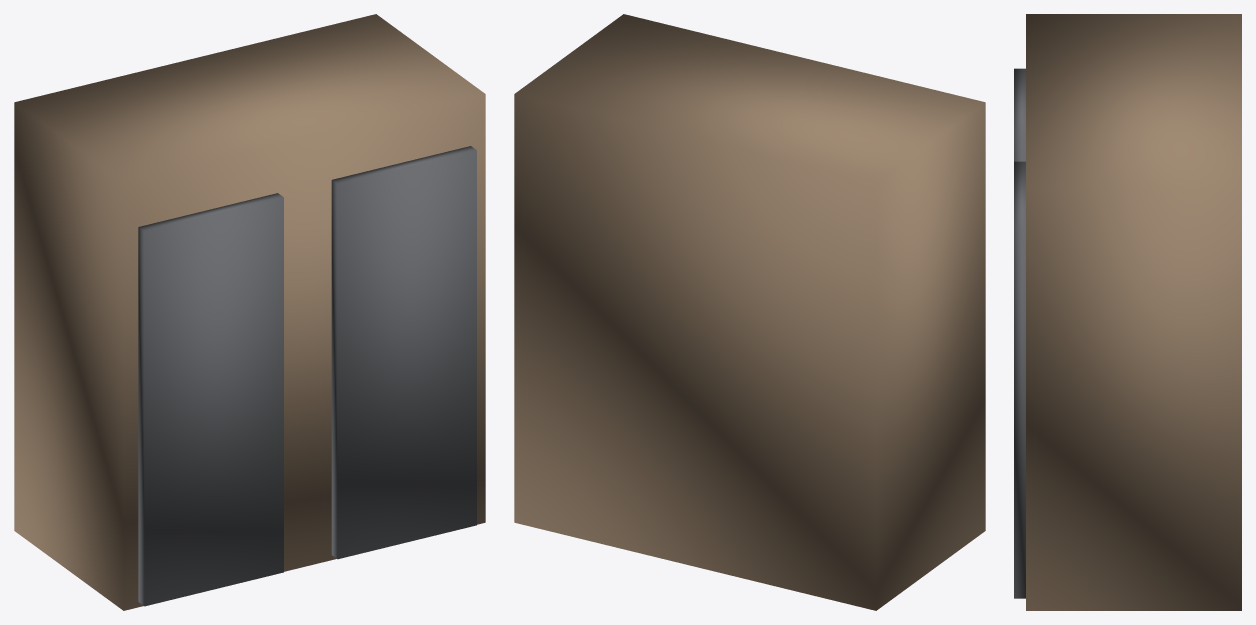
The model's file is confessional_booth__squat.glb.
3 views of the same model, side by side, from view 1: azimuth 30°, elevation 25°; view 2: azimuth 150°, elevation 25°; view 3: azimuth 270°, elevation 25° (orthographic).
Visible parts, largest first — view 1: world; view 2: world; view 3: world.
Part boxes in pixels (x1=…): world: x1=14, y1=14, x2=485, y2=610; world: x1=514, y1=14, x2=985, y2=610; world: x1=1014, y1=14, x2=1241, y2=610.
Size of the model in its own units: 1.49 by 1.68 by 0.8208.
